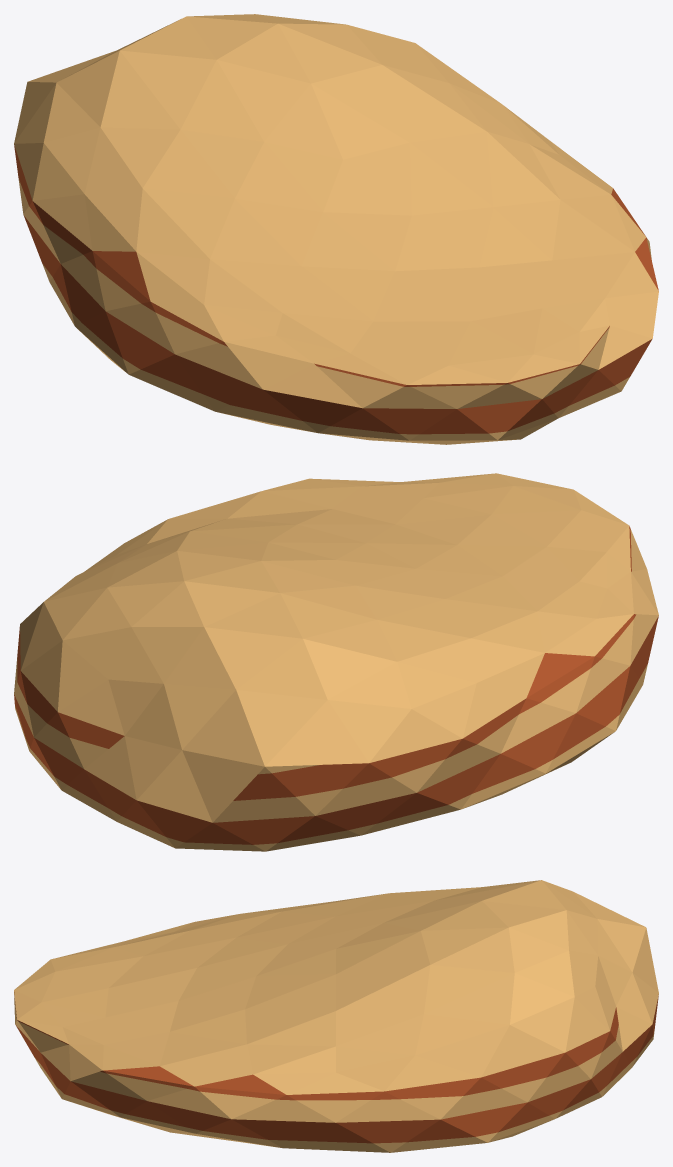
Rendered from W5_Ramp_B.fbx.
3 views of the same model, one above another, from view 1: azimuth 30°, elevation 25°; view 2: azimuth 150°, elevation 25°; view 3: azimuth 270°, elevation 25° (orthographic). The views are drawn at different scales.
Parts seen in each view (by area): view 1: W5_Ramp_B; view 2: W5_Ramp_B; view 3: W5_Ramp_B.
Boxes of the visible parts, left/top/right/bottom form: W5_Ramp_B: left=14, top=14, right=658, bottom=444; W5_Ramp_B: left=14, top=473, right=658, bottom=851; W5_Ramp_B: left=14, top=880, right=658, bottom=1152.
Bounding box in the file's own units: 6.96 × 2.57 × 9.72.
